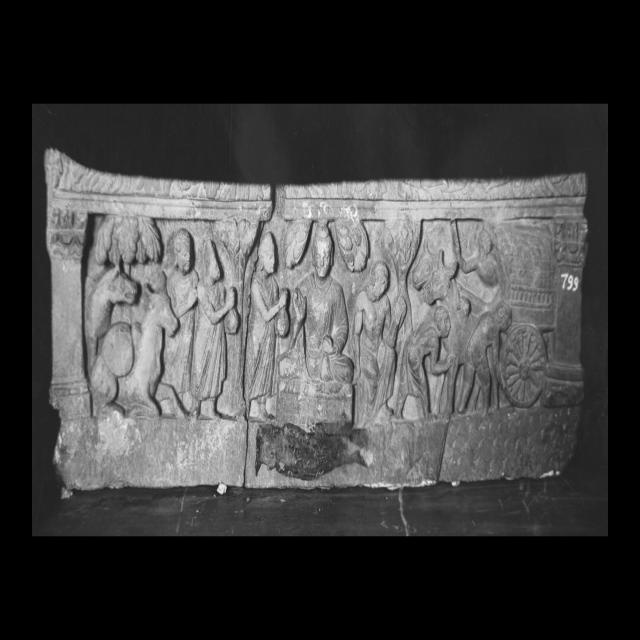buddha-sitting: (276, 222, 354, 429)
